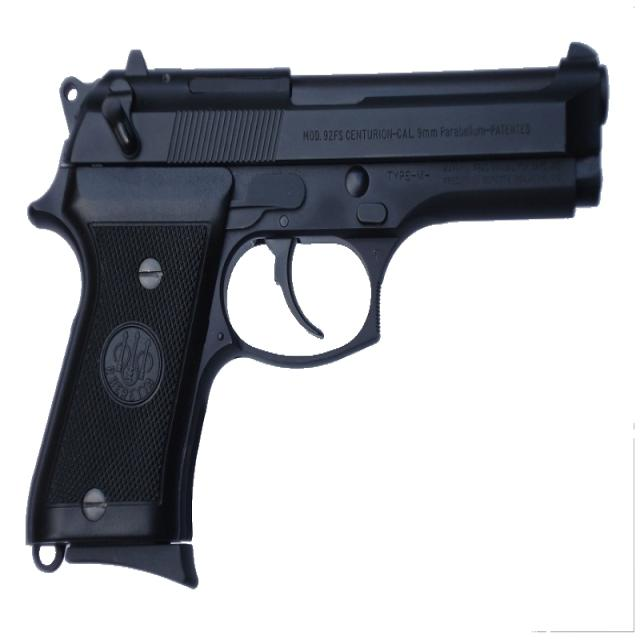Gun: (34, 47, 629, 591)
